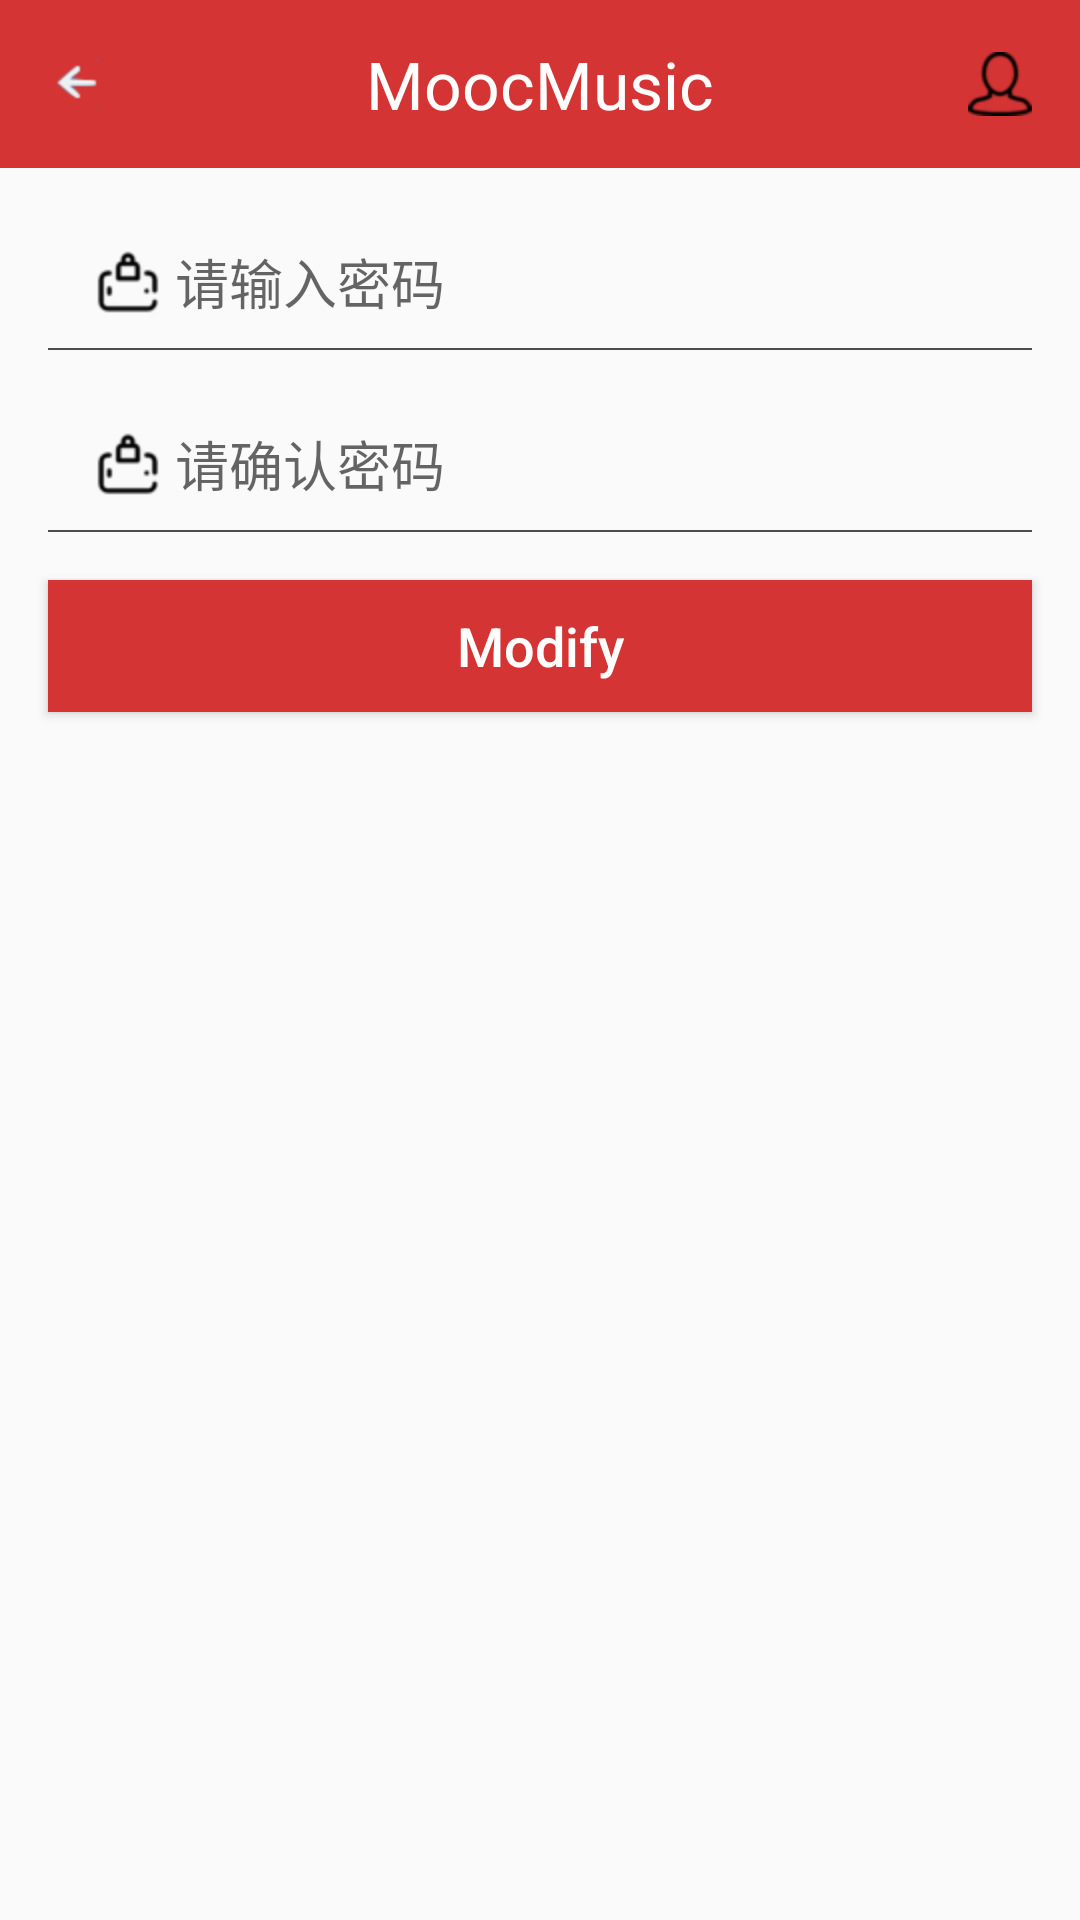

Point at icon controls on the screen. Image size 1080×1920, points as [x,y].
back: [77,82]
user: [1000,84]
